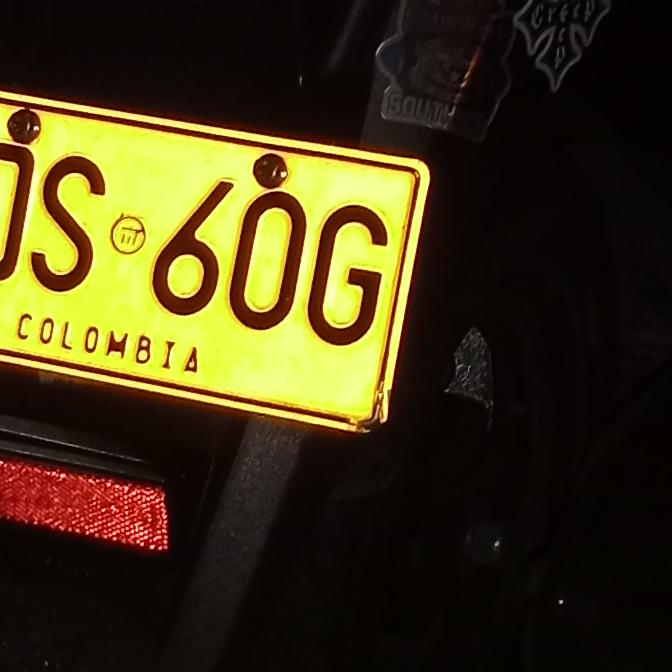plates: (0, 85, 430, 437)
